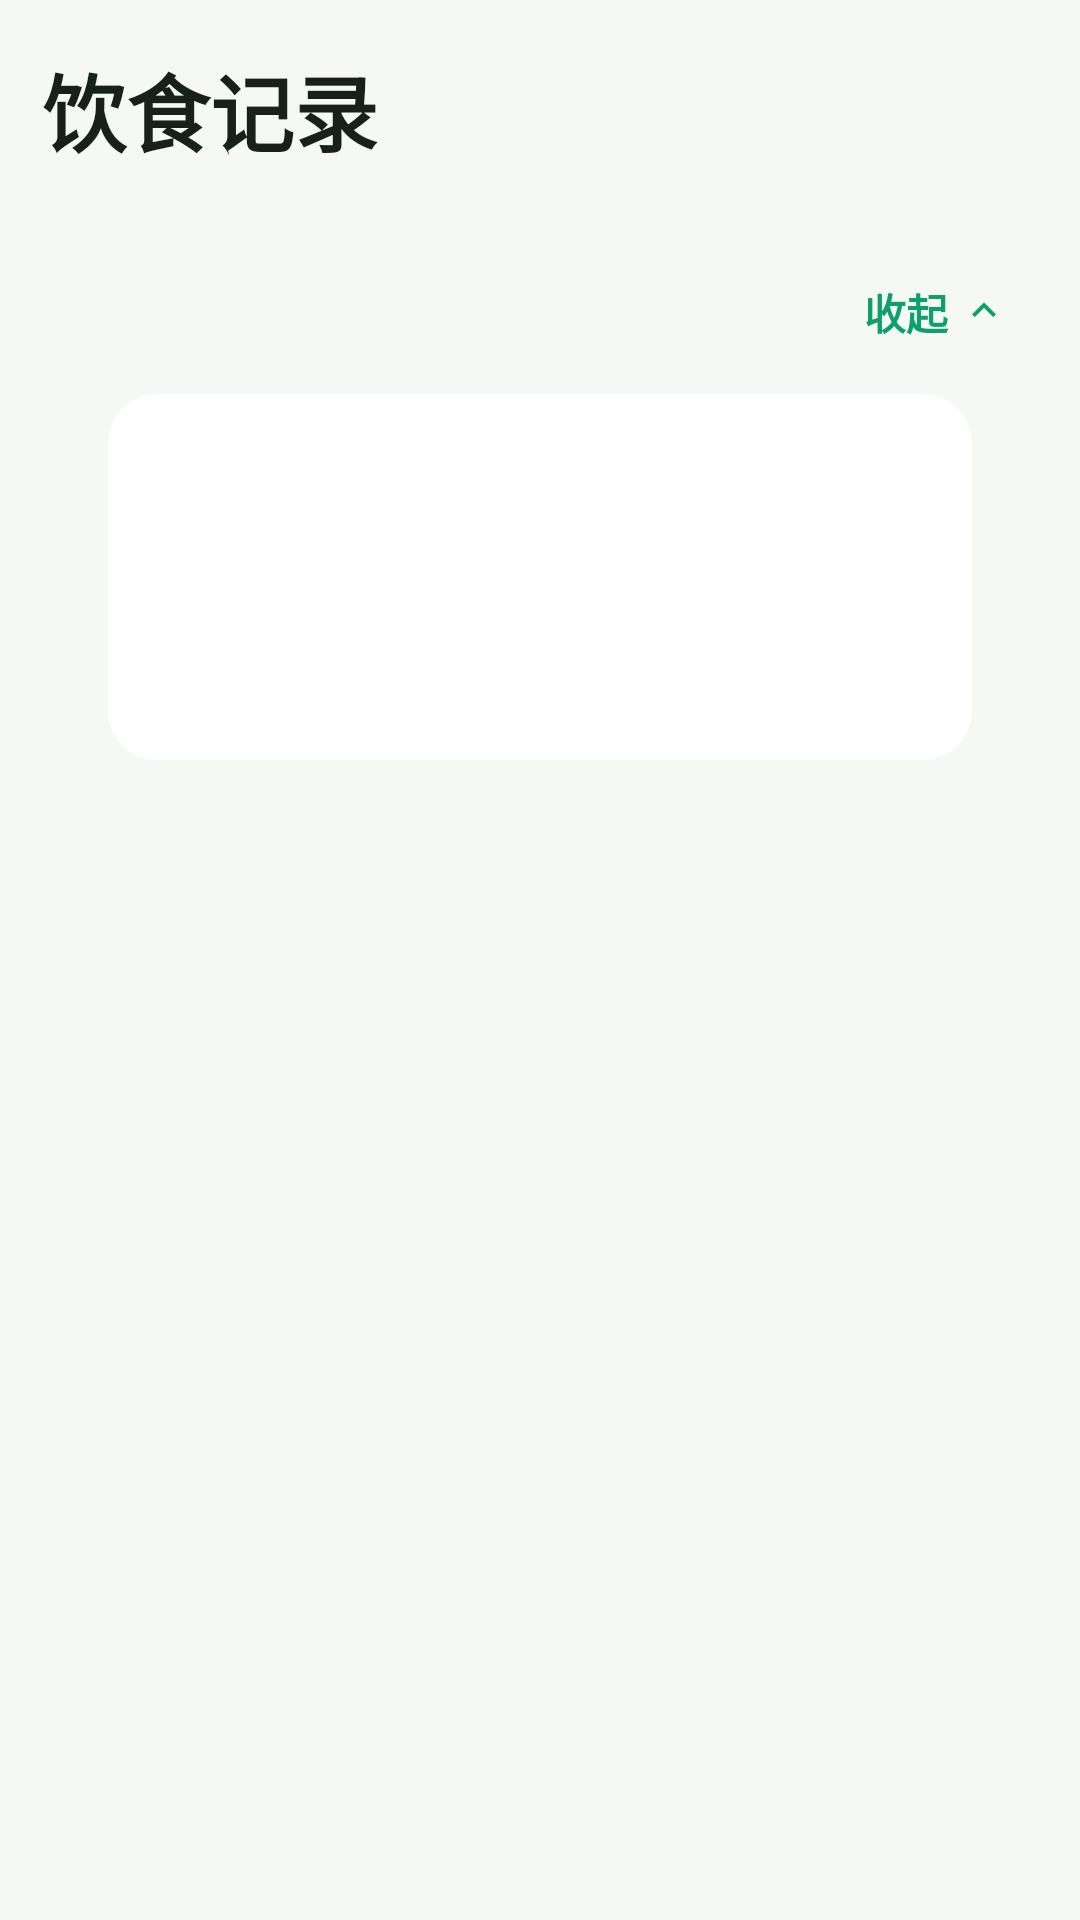

Screen size 1080px×1920px. Icon name, then its center in pixels as (x,y):
meal chevron up: (984,309)
